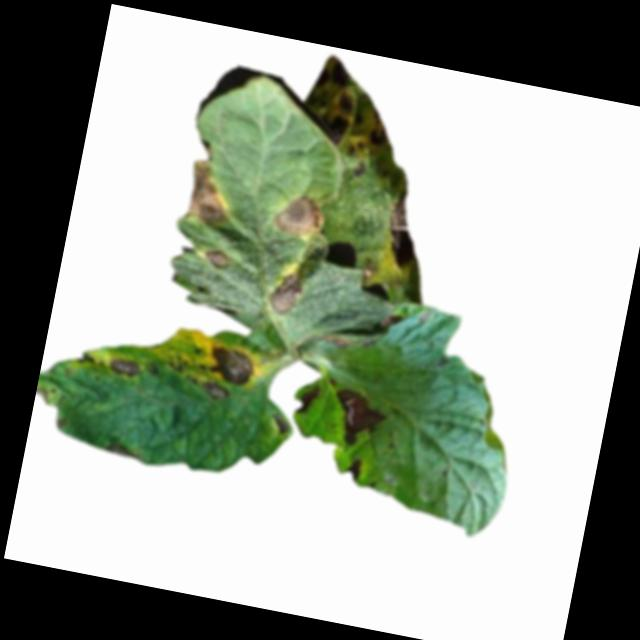Early_blight: (325, 388, 390, 452), (179, 158, 238, 228), (379, 188, 426, 270), (306, 51, 364, 114), (198, 339, 258, 387), (273, 189, 327, 241), (264, 269, 306, 319), (366, 107, 392, 147), (323, 113, 351, 149), (291, 383, 319, 417), (311, 330, 353, 351), (107, 355, 142, 380), (198, 380, 233, 403), (203, 246, 231, 272), (104, 442, 143, 460), (374, 311, 401, 335), (345, 455, 364, 483), (76, 350, 98, 370)
